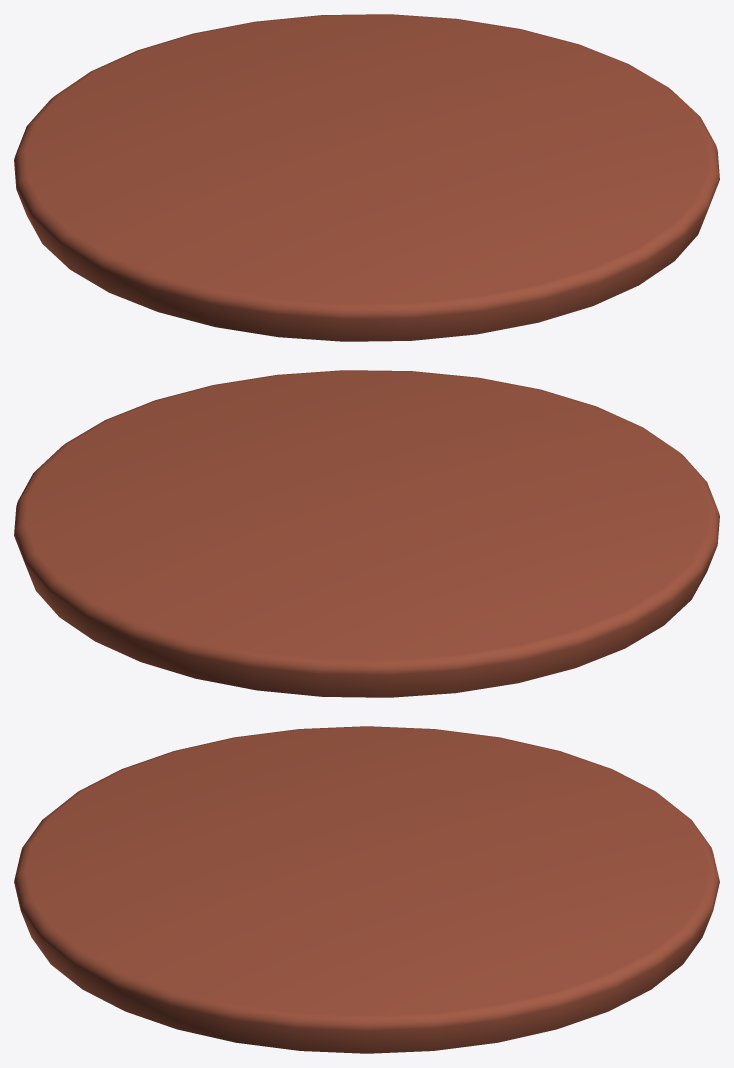
Rendered from table_round.fbx.
3 views of the same model, one above another, from view 1: azimuth 30°, elevation 25°; view 2: azimuth 150°, elevation 25°; view 3: azimuth 270°, elevation 25° (orthographic).
Parts seen in each view (by area): view 1: Cylinder.060; view 2: Cylinder.060; view 3: Cylinder.060.
Boxes of the visible parts, x1,y1,x2,y2 form: Cylinder.060: (14, 14, 719, 341); Cylinder.060: (14, 370, 719, 697); Cylinder.060: (14, 726, 719, 1053).
Bounding box in the file's own units: 88.24 × 5.18 × 88.24.
